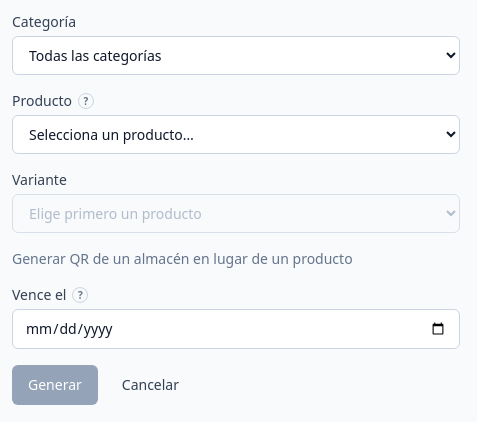
Test: QrForm › selects the variant by default when the product has exactly one variant without a QR
Step 1. Select "Fridge" in the dropdown labelled "Producto" → {"x": 236, "y": 134}, box top-left (12, 115), bottom-right (460, 154)
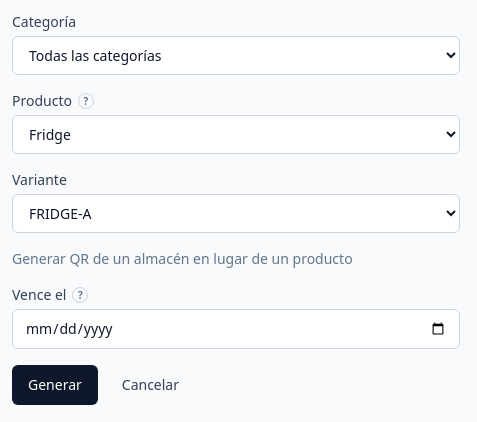
expect the dropdown labelled "Variante" shows "FRIDGE-A": met, box top-left (12, 194), bottom-right (460, 233)
expect the button "Generar" is enabled: met, box top-left (12, 365), bottom-right (98, 405)
